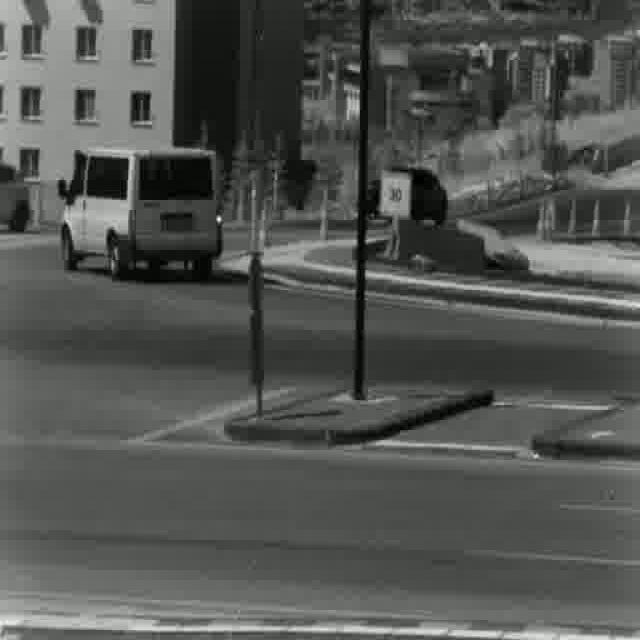Car: (59, 143, 219, 283), (358, 168, 447, 228)
